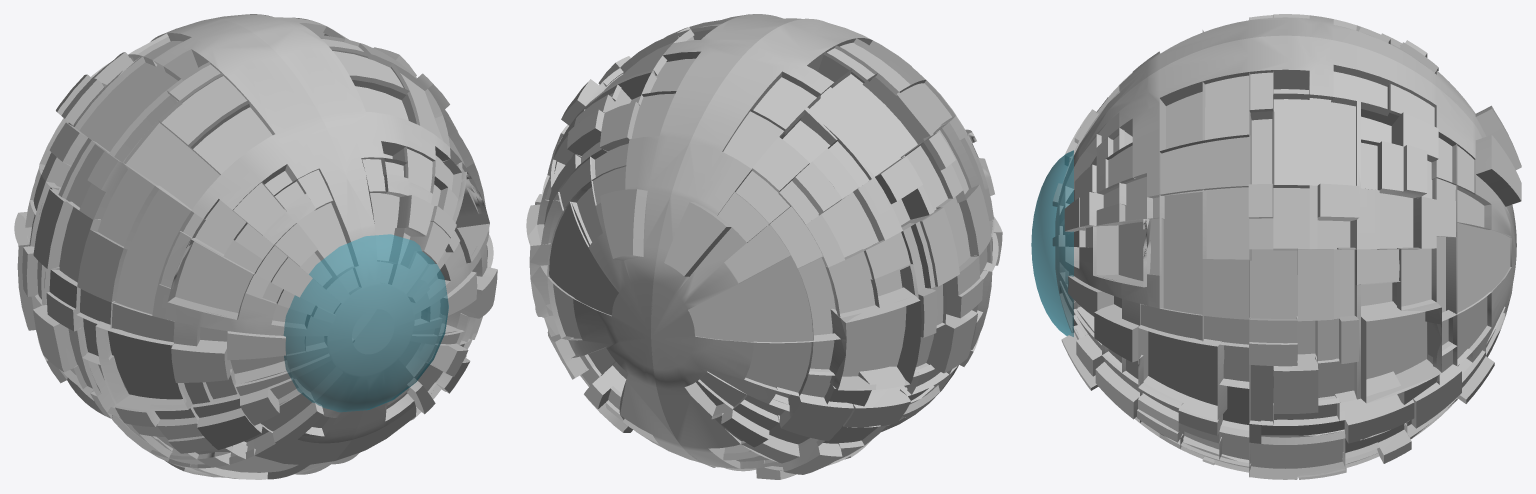
The model's file is EyeBallonly.fbx.
The picture shows the model from 3 angles, left to right: view 1: azimuth 30°, elevation 25°; view 2: azimuth 150°, elevation 25°; view 3: azimuth 270°, elevation 25°; orthographic projection.
Visible parts, largest first — view 1: polySurface2685, polySurface2680; view 2: polySurface2685; view 3: polySurface2685, polySurface2680.
Boxes of the visible parts, left/top/right/bottom form: polySurface2685: left=14, top=14, right=497, bottom=479; polySurface2680: left=283, top=234, right=448, bottom=412; polySurface2685: left=526, top=14, right=1002, bottom=479; polySurface2685: left=1053, top=14, right=1521, bottom=479; polySurface2680: left=1031, top=150, right=1073, bottom=336.
Bounding box in the file's own units: 26.77 × 26.13 × 27.25.
